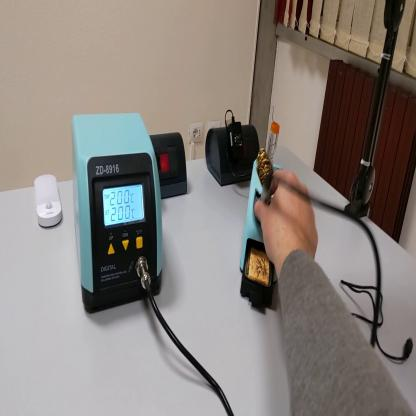hand: (254, 170, 319, 267)
socket: (205, 118, 264, 190), (149, 136, 190, 201)
welder base: (241, 116, 284, 318)
welder probe tip: (258, 178, 282, 211)
welder station: (68, 110, 166, 318)
